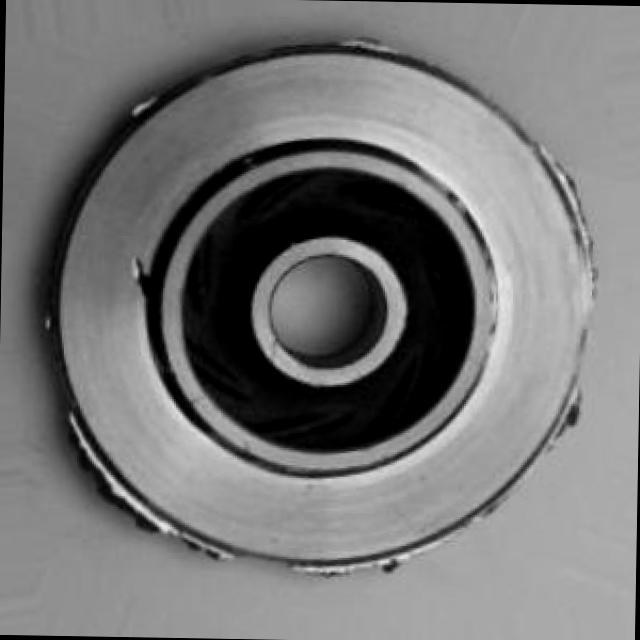Defect: (125, 247, 167, 314)
